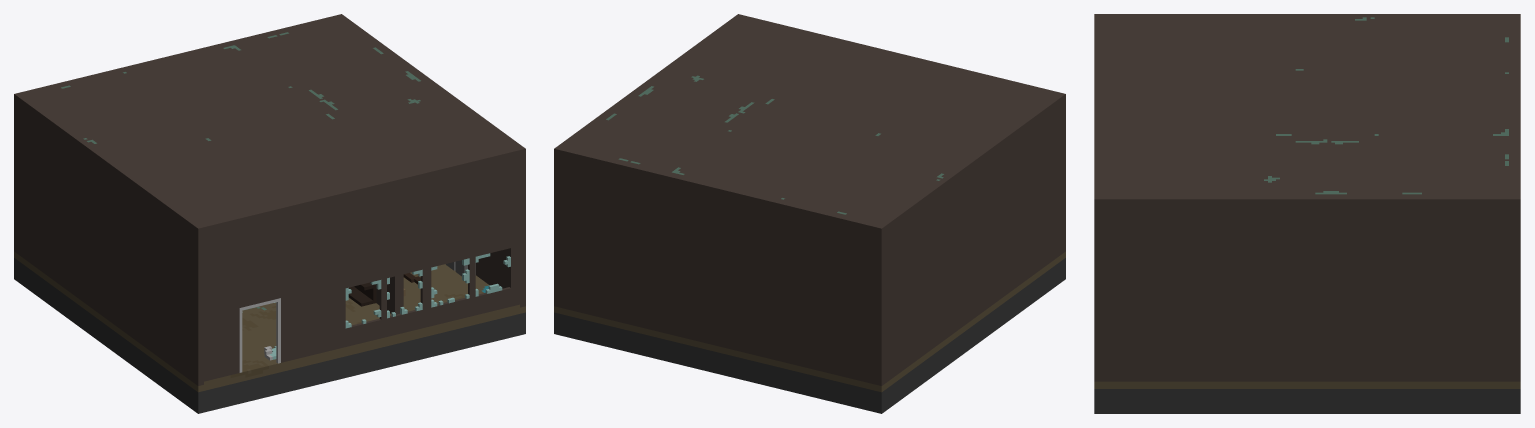
The model's file is Ruined Shop.obj.
3 views of the same model, side by side, from view 1: azimuth 30°, elevation 25°; view 2: azimuth 150°, elevation 25°; view 3: azimuth 270°, elevation 25° (orthographic). The views are drawn at different scales.
Bounding box in the file's own units: 11.1 × 6 × 10.8.
Materials: 1 (1 with a texture image).
